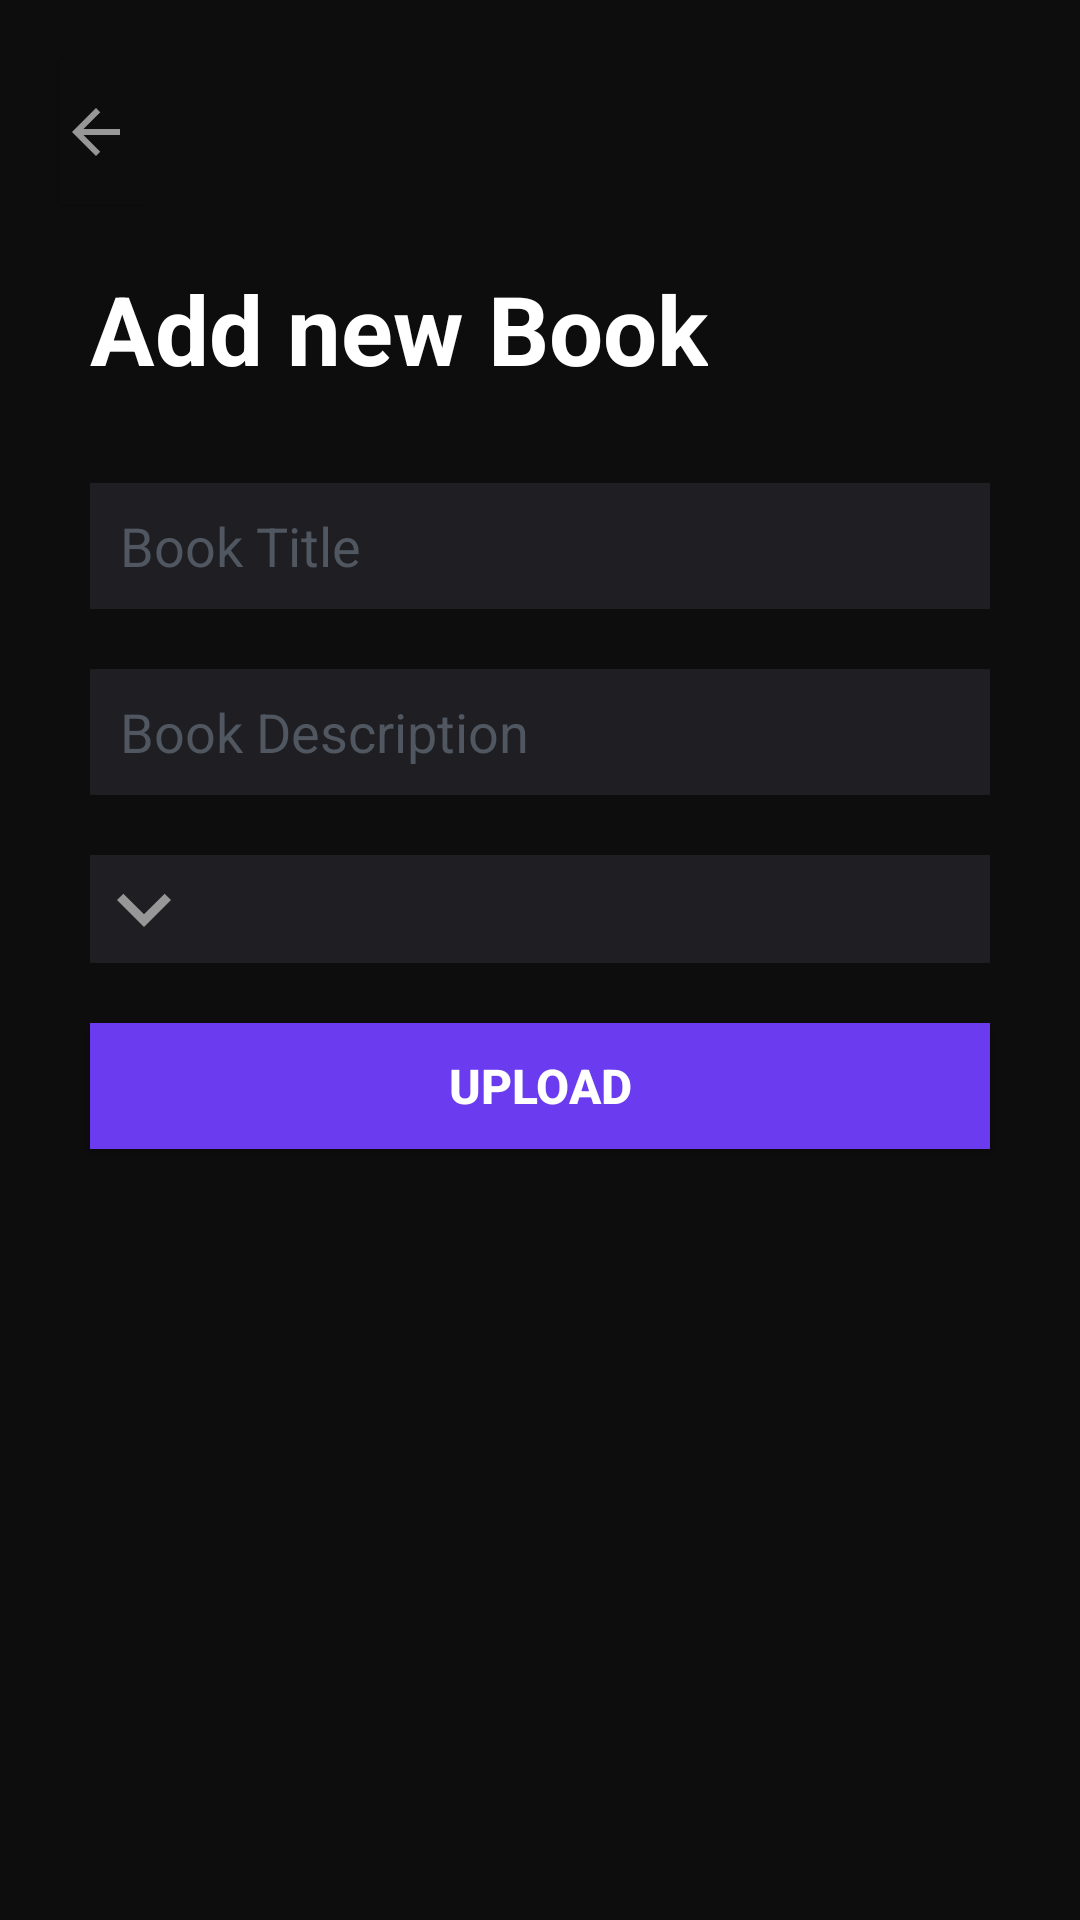

Named icons in this screenshot (1080w x 1920h) and their bounding boxes, (x1, y1, x2, y2):
arrow down: (90, 855, 198, 963)
